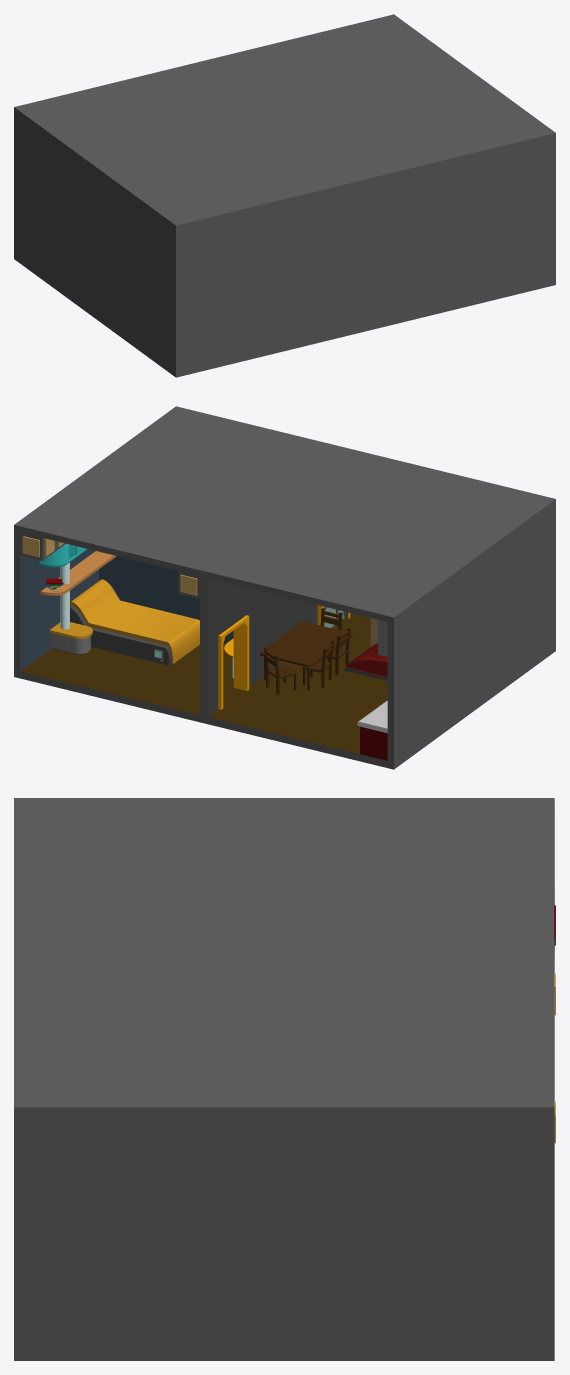
The model's file is Jonas_Apt_Interior.fbx.
3 views of the same model, one above another, from view 1: azimuth 30°, elevation 25°; view 2: azimuth 150°, elevation 25°; view 3: azimuth 270°, elevation 25° (orthographic). The views are drawn at different scales.
Visible parts, largest first — view 1: Body.002; view 2: Body.002, Bed, Table, Drawer, Vent, SideTable, Chair_1, Chair_2, Support_1, LightBar_1.001, Chair_3; view 3: Body.002.
Part boxes in pixels (box(x1,y1,x2,y2)): Body.002: box(14, 14, 555, 377); Body.002: box(14, 406, 555, 769); Bed: box(70, 579, 199, 665); Table: box(260, 621, 352, 690); Drawer: box(39, 544, 116, 595); Vent: box(344, 620, 387, 680); SideTable: box(49, 622, 92, 654); Chair_1: box(264, 647, 296, 694); Chair_2: box(303, 640, 334, 688); Support_1: box(60, 562, 69, 629); LightBar_1.001: box(22, 536, 63, 557); Chair_3: box(328, 627, 350, 675); Body.002: box(14, 798, 554, 1360).
Bounding box in the file's own units: 2362 × 904 × 1750.
Materials: 25 (25 with a texture image).
